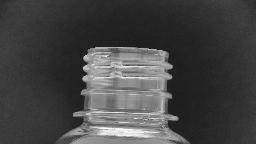No Cap: (69, 39, 183, 124)
